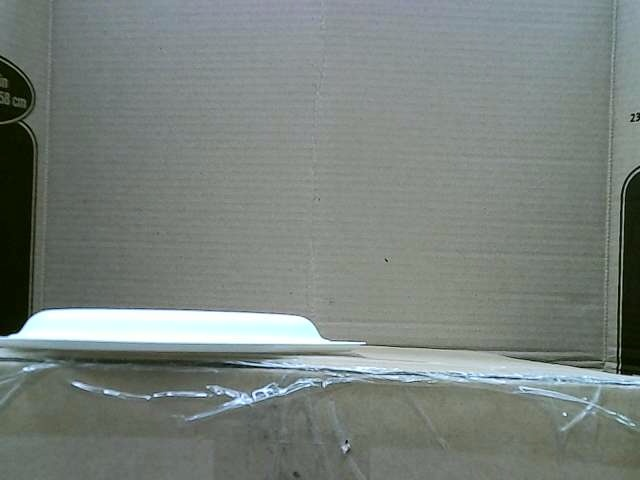Plate: (1, 309, 367, 349)
